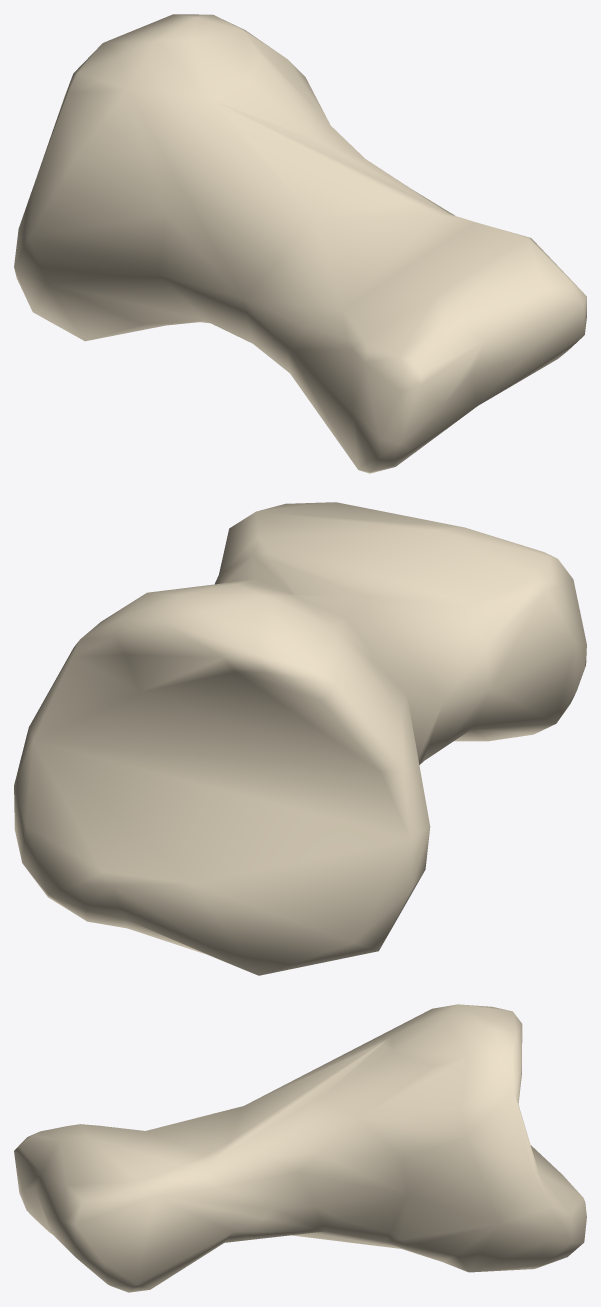
File: middle-phalanx-of-third-finger-of-foot-l.glb
3 renders of one model, top to bottom at view 1: azimuth 30°, elevation 25°; view 2: azimuth 150°, elevation 25°; view 3: azimuth 270°, elevation 25°, orthographic. The views are drawn at different scales.
Parts seen in each view (by area): view 1: Middle phalanx of third finger of foot.l; view 2: Middle phalanx of third finger of foot.l; view 3: Middle phalanx of third finger of foot.l.
Part boxes in pixels (<box>): Middle phalanx of third finger of foot.l: <box>14,14,586,473</box>; Middle phalanx of third finger of foot.l: <box>14,502,586,975</box>; Middle phalanx of third finger of foot.l: <box>14,1004,586,1292</box>.
Size of the model in its own units: 0.0111 by 0.0083 by 0.0174.
